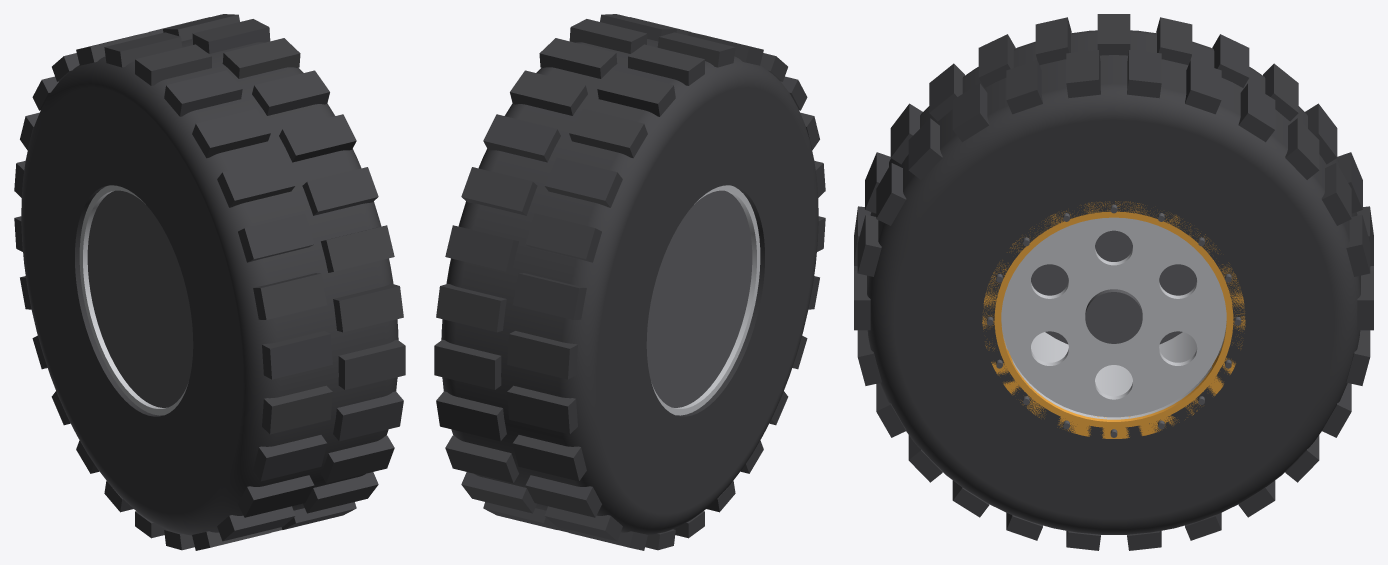
File: wheel.glb
The picture shows the model from 3 angles, left to right: view 1: azimuth 30°, elevation 25°; view 2: azimuth 150°, elevation 25°; view 3: azimuth 270°, elevation 25°; orthographic projection.
Parts seen in each view (by area): view 1: Rubber, Hub, Rim; view 2: Rubber, Hub, Rim; view 3: Rubber, Rim, RimAccent, Hub.
Part boxes in pixels (x1=…): Rubber: x1=14, y1=14, x2=405, y2=550; Hub: x1=87, y1=190, x2=193, y2=407; Rim: x1=79, y1=185, x2=188, y2=415; Rubber: x1=434, y1=14, x2=825, y2=550; Hub: x1=646, y1=190, x2=752, y2=407; Rim: x1=651, y1=185, x2=760, y2=415; Rubber: x1=854, y1=14, x2=1373, y2=550; Rim: x1=1001, y1=217, x2=1226, y2=419; RimAccent: x1=982, y1=201, x2=1245, y2=438; Hub: x1=986, y1=204, x2=1241, y2=437.
Bounding box in the file's own units: 0.332 × 0.9403 × 0.9403.
